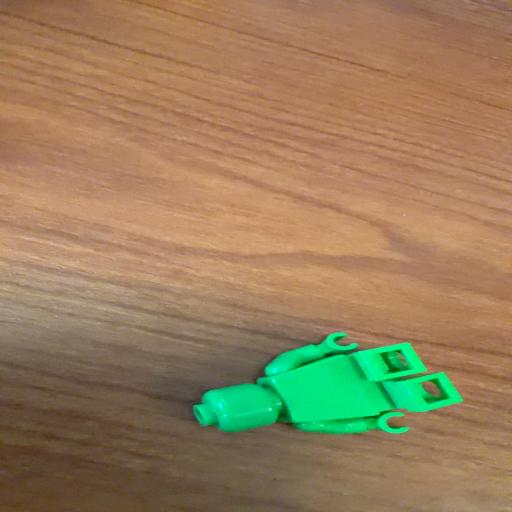UnoQ-minifig-detector: (195, 333, 462, 433)
